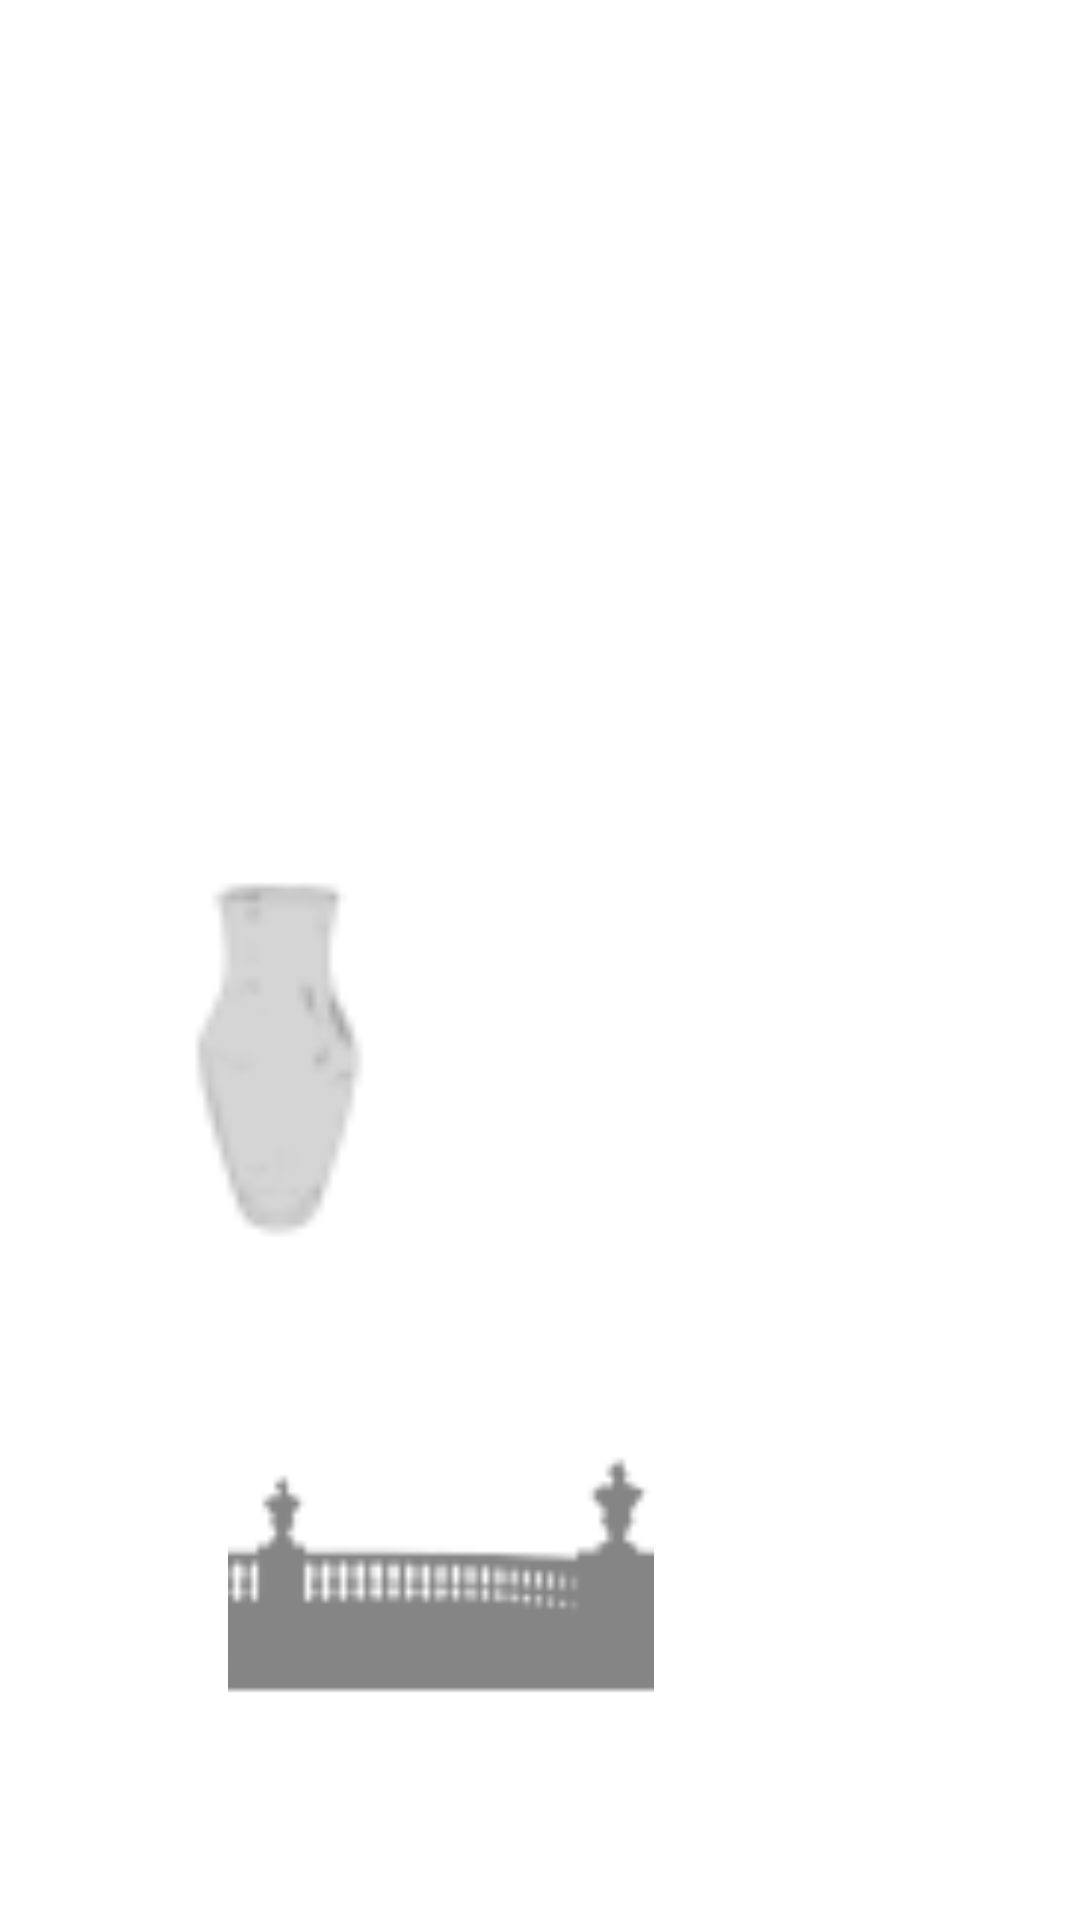

Icons on this 1080px×1920px Android screen, each with the point to tap as [x,y]:
vase: [278,1058]
